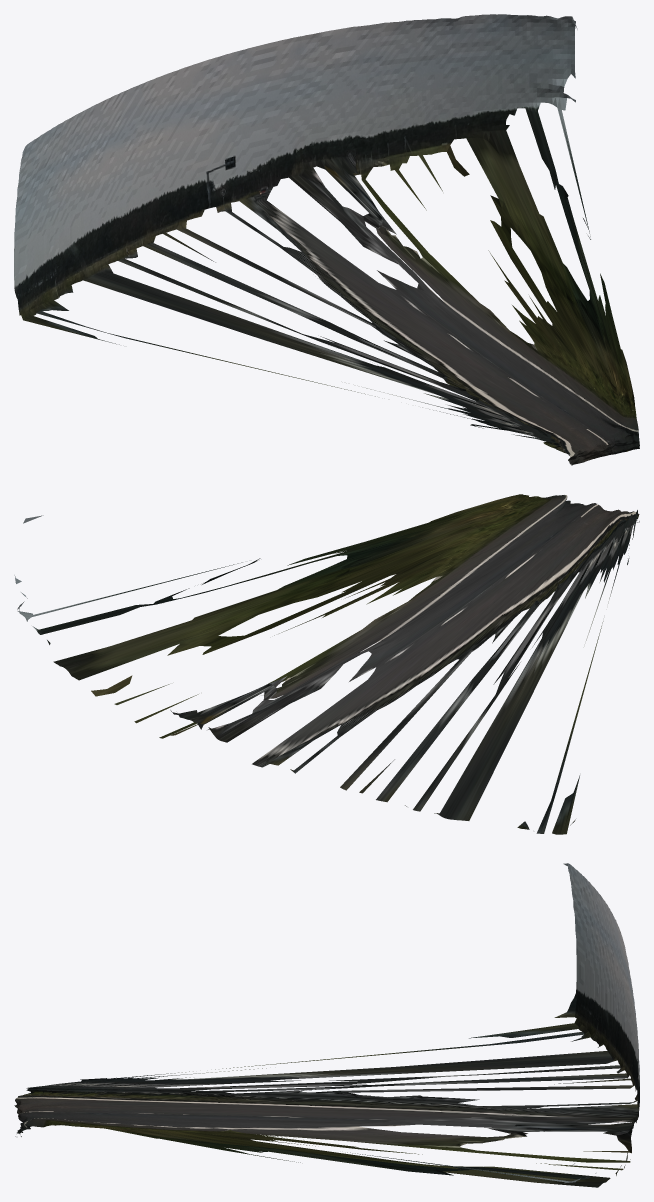
3 views of the same model, one above another, from view 1: azimuth 30°, elevation 25°; view 2: azimuth 150°, elevation 25°; view 3: azimuth 270°, elevation 25° (orthographic). The views are drawn at different scales.
Visible parts, largest first — view 1: defaultobject; view 2: defaultobject; view 3: defaultobject.
Part boxes in pixels (box(x1,y1,x2,y2)): defaultobject: box(14, 14, 639, 465); defaultobject: box(14, 494, 639, 834); defaultobject: box(14, 863, 639, 1187).
Bounding box in the file's own units: 40.98 × 13.29 × 44.21.
1 material, 1 textured.
